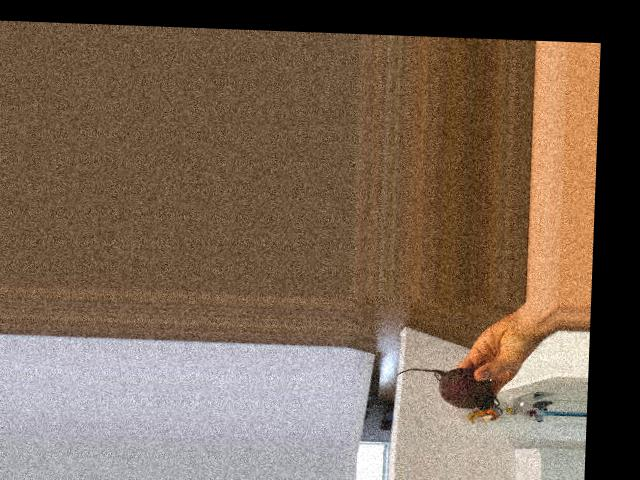beet: (393, 365, 500, 410)
